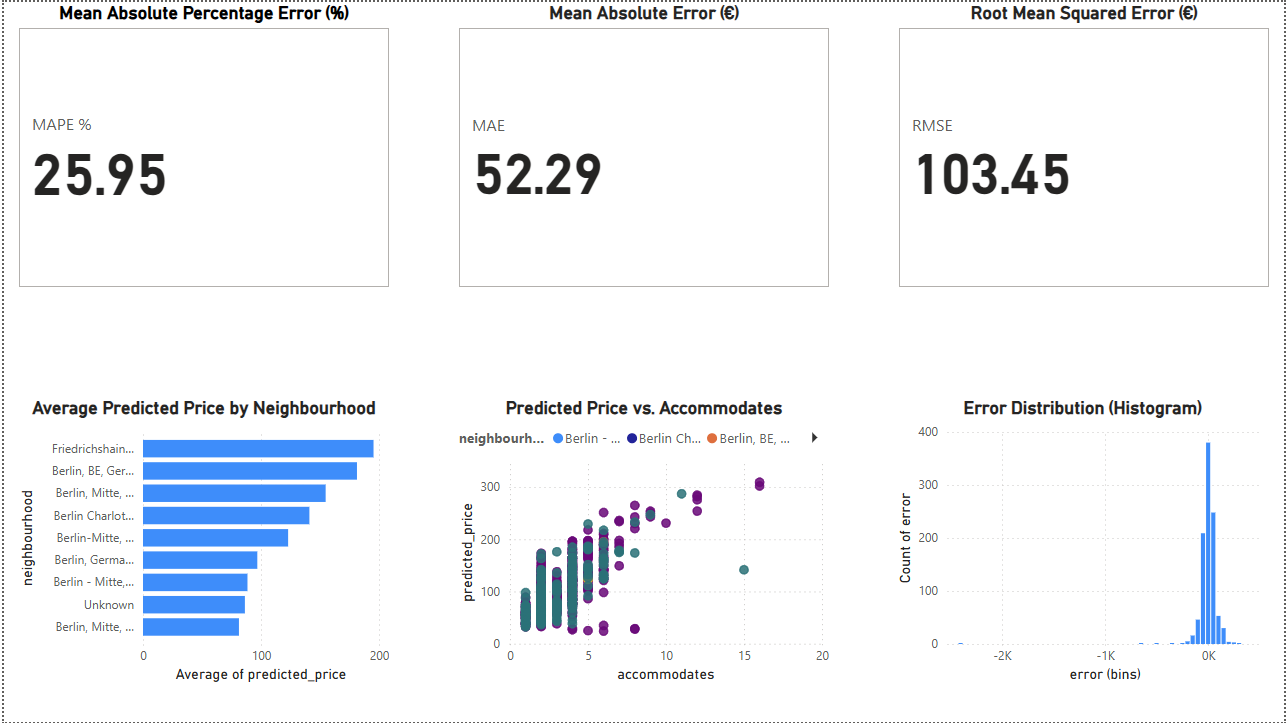

This screenshot's page, from the dashboard's own definition file:
{"tool":"powerbi","page":{"name":"Page 1","canvas":[1280,720],"ordinal":0},"visuals":[{"type":"cardVisual","title":"Mean Absolute Percentage Error (%)","fields":{"Data":["Sheet1.MAPE %"]},"box":[9.6,0,380,290],"z":0},{"type":"cardVisual","title":"Mean Absolute Error (€)","fields":{"Data":["Sheet1.MAE"]},"box":[449.6,0,380,290],"z":1000},{"type":"cardVisual","title":"Root Mean Squared Error (€)","fields":{"Data":["Sheet1.RMSE"]},"box":[889.7,0,380,290],"z":2000},{"type":"clusteredBarChart","title":"Average Predicted Price by Neighbourhood","fields":{"Category":["Sheet1.neighbourhood"],"Y":["Avg(Sheet1.predicted_price)"]},"box":[9.9,394.9,379.7,290.1],"z":3000},{"type":"scatterChart","title":"Predicted Price vs. Accommodates","fields":{"X":["Sheet1.accommodates"],"Y":["Sheet1.predicted_price"],"Series":["Sheet1.neighbourhood"]},"box":[450.4,394.9,379.7,290.1],"z":4000},{"type":"clusteredColumnChart","title":"Error Distribution (Histogram)","fields":{"Category":["Sheet1.error (bins)"],"Y":["CountNonNull(Sheet1.error)"]},"box":[888.4,394.9,380.6,290.1],"z":5000}]}

Visuals, with their boxes in screenshot pixels (x1, y1, x2, y2), scaled from the page's 1280x720 canvas onto the 1287x723 screenshot:
"Mean Absolute Percentage Error (%)" cardVisual: 10 0 392 291
"Mean Absolute Error (€)" cardVisual: 452 0 834 291
"Root Mean Squared Error (€)" cardVisual: 895 0 1277 291
"Average Predicted Price by Neighbourhood" clusteredBarChart: 10 397 392 688
"Predicted Price vs. Accommodates" scatterChart: 453 397 835 688
"Error Distribution (Histogram)" clusteredColumnChart: 893 397 1276 688
